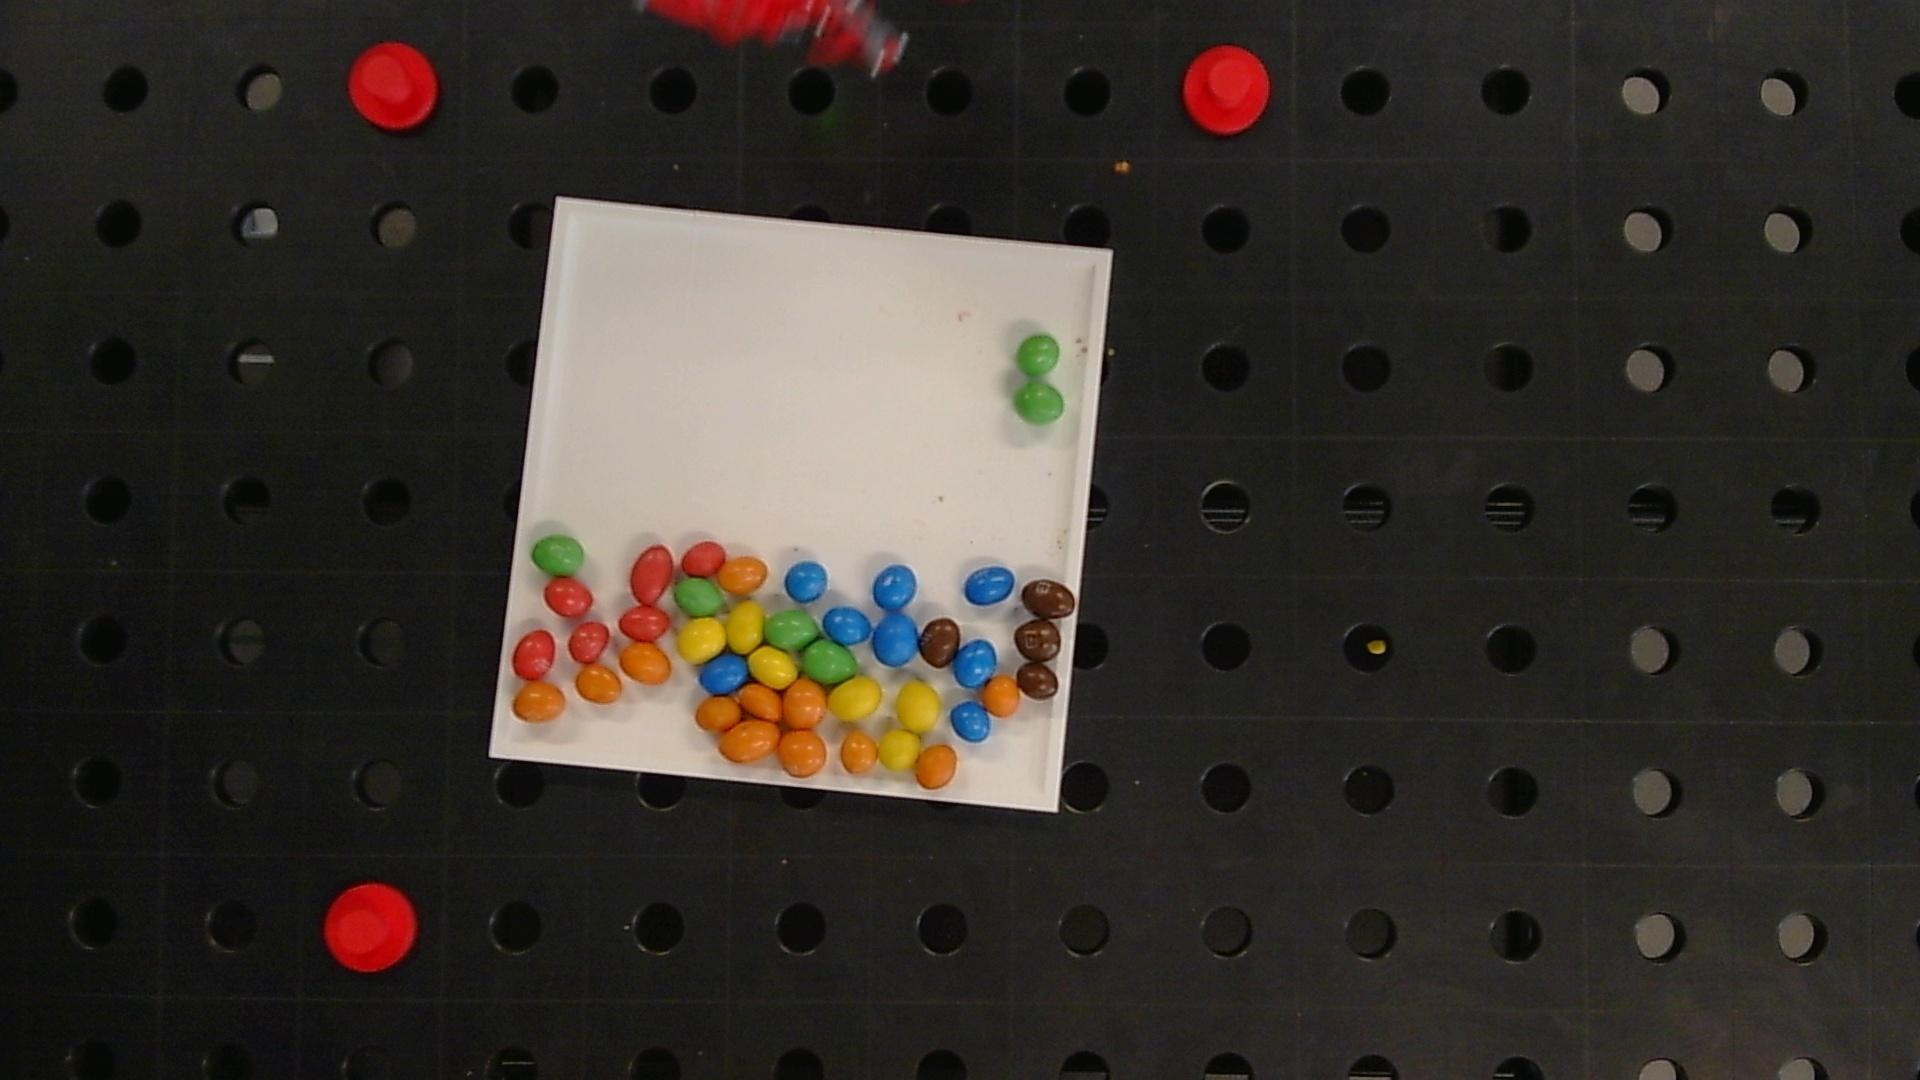blue: (873, 615, 919, 666), (953, 640, 997, 688), (964, 566, 1015, 605), (873, 564, 916, 611), (702, 654, 748, 695), (823, 607, 872, 645), (785, 560, 828, 603), (951, 702, 990, 741)
brown: (1022, 579, 1076, 618), (918, 617, 961, 666), (1014, 621, 1062, 662), (1017, 663, 1059, 699)
green: (802, 640, 857, 684), (531, 534, 584, 576), (1014, 382, 1065, 425), (764, 611, 818, 650), (674, 576, 721, 616), (1017, 336, 1062, 377)
orange: (719, 719, 781, 762), (778, 731, 827, 775), (618, 644, 671, 684), (512, 682, 566, 721), (914, 744, 957, 789), (783, 680, 825, 727), (575, 665, 622, 704), (717, 556, 767, 593), (840, 733, 878, 774), (738, 683, 781, 720), (696, 696, 740, 732), (982, 676, 1021, 716)
red: (630, 545, 674, 604), (512, 630, 555, 679), (545, 579, 593, 618), (618, 607, 670, 641), (567, 621, 609, 662), (680, 539, 725, 575)
yellow: (676, 617, 725, 663), (895, 682, 940, 732), (831, 678, 882, 721), (727, 601, 764, 653), (750, 647, 799, 686), (878, 729, 920, 770)
